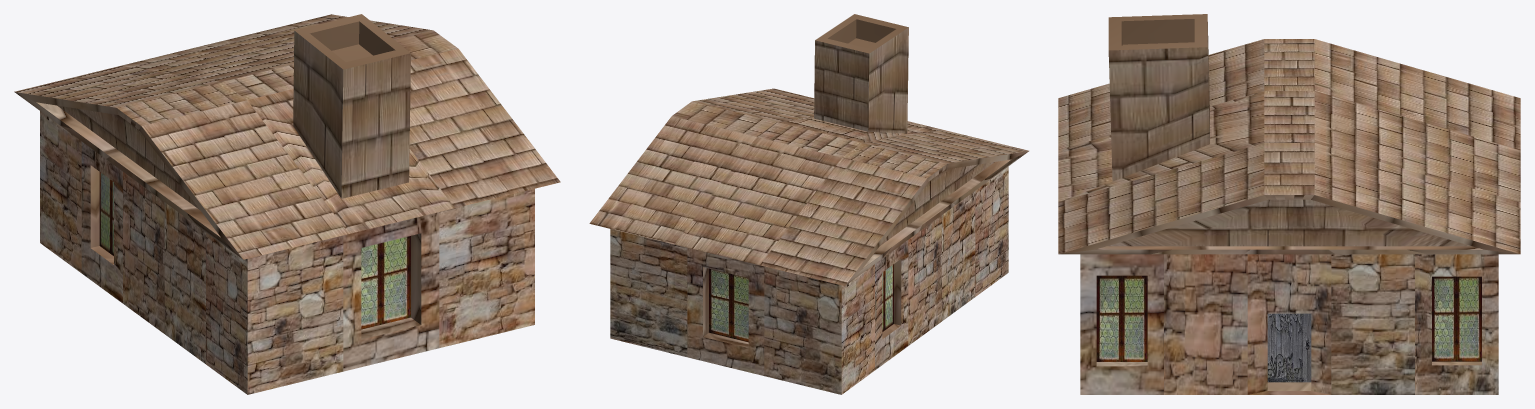
Rendered from Houses 3.fbx.
3 views of the same model, side by side, from view 1: azimuth 30°, elevation 25°; view 2: azimuth 150°, elevation 25°; view 3: azimuth 270°, elevation 25° (orthographic). The views are drawn at different scales.
Visible parts, largest first — view 1: House 3; view 2: House 3; view 3: House 3.
Boxes of the visible parts, x1=… form: House 3: x1=14, y1=14, x2=560, y2=394; House 3: x1=589, y1=14, x2=1028, y2=394; House 3: x1=1058, y1=14, x2=1520, y2=394.
Bounding box in the file's own units: 452 × 397 × 566.
